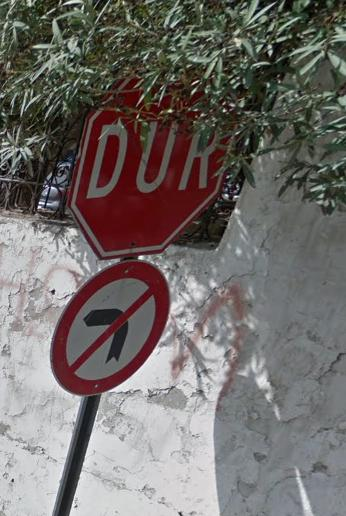leftturnsareforbidden: (54, 264, 171, 398)
stop: (71, 62, 227, 257)
